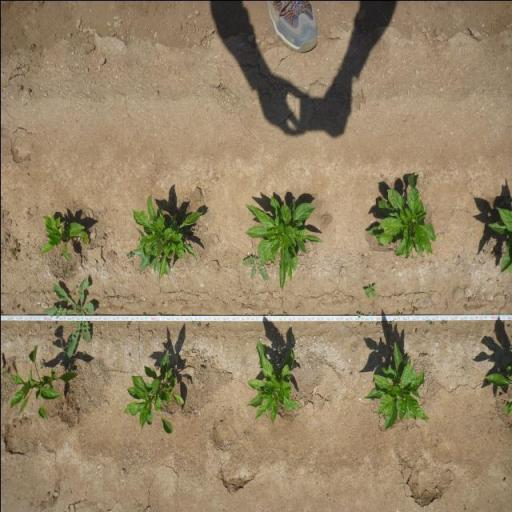plant: (364, 172, 436, 260), (361, 341, 429, 430), (132, 194, 201, 280), (121, 348, 185, 434), (257, 191, 322, 270), (4, 352, 77, 421), (244, 338, 299, 424), (38, 213, 90, 261), (486, 206, 512, 274), (481, 359, 512, 414)
weed: (44, 276, 94, 352), (239, 255, 268, 283), (9, 238, 20, 260), (362, 282, 376, 298), (13, 305, 23, 314), (411, 305, 418, 316), (125, 251, 133, 259), (392, 309, 402, 315), (426, 320, 434, 326), (462, 303, 468, 310), (66, 264, 71, 272), (356, 312, 362, 318), (199, 365, 204, 372), (441, 320, 447, 325), (375, 320, 379, 326), (389, 320, 394, 324)
